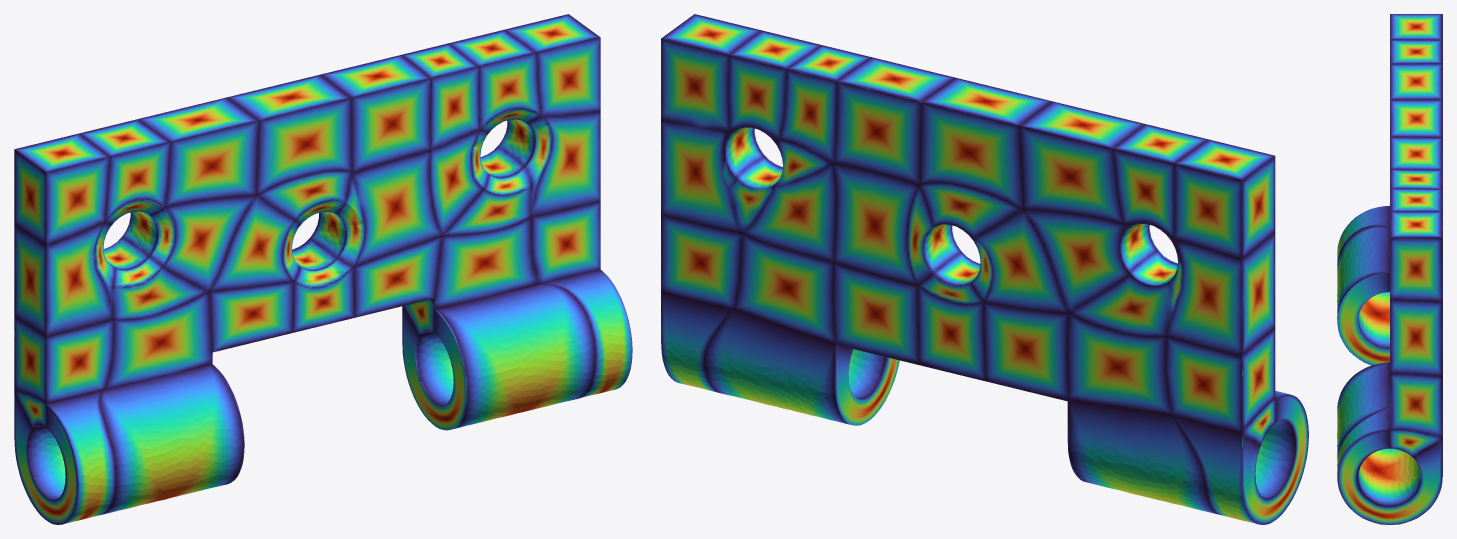
Rendered from gen1.glb.
3 views of the same model, side by side, from view 1: azimuth 30°, elevation 25°; view 2: azimuth 150°, elevation 25°; view 3: azimuth 270°, elevation 25° (orthographic). The views are drawn at different scales.
Visible parts, largest first — view 1: Node; view 2: Node; view 3: Node.
Part boxes in pixels (x1,y1,x2,y2): Node: (14,14,632,524); Node: (661,14,1308,524); Node: (1337,14,1442,524).
Size of the model in its own units: 50 by 30 by 10.
Materials: 1 (1 with a texture image).
